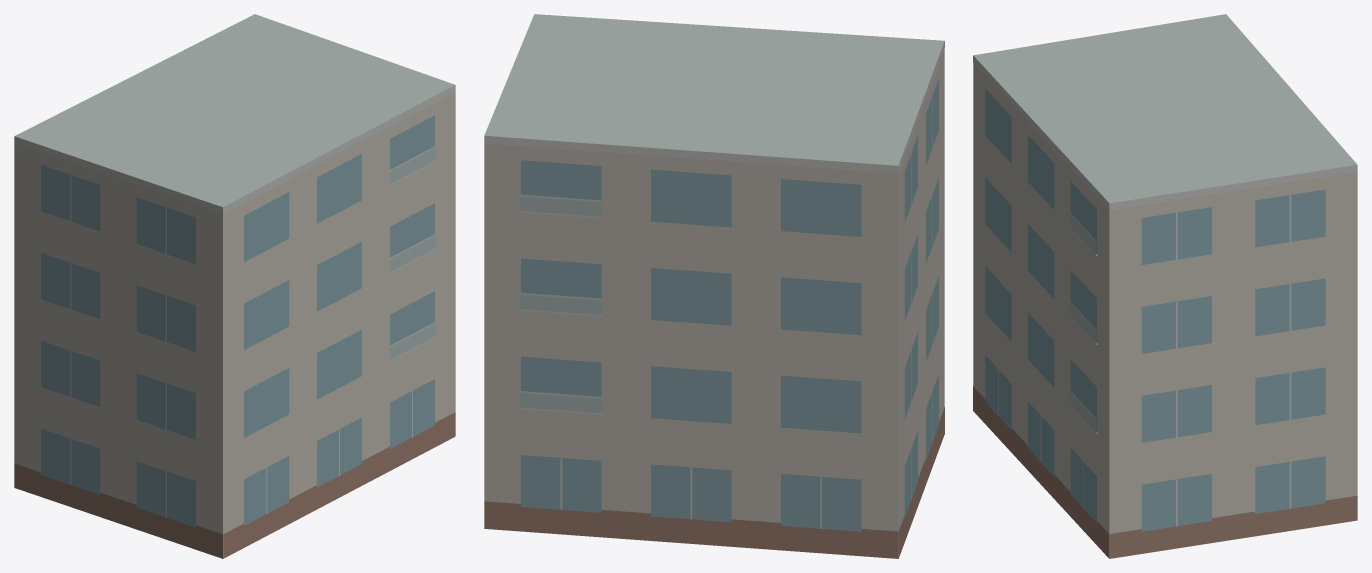
File: survey-upis-32954186.glb
3 views of the same model, side by side, from view 1: azimuth 30°, elevation 25°; view 2: azimuth 150°, elevation 25°; view 3: azimuth 270°, elevation 25° (orthographic). The views are drawn at different scales.
Visible parts, largest first — view 1: survey-upis-32954186.tmp; view 2: survey-upis-32954186.tmp; view 3: survey-upis-32954186.tmp.
Boxes of the visible parts, box(x1,y1,x2,y2) form: survey-upis-32954186.tmp: box(14, 14, 455, 558); survey-upis-32954186.tmp: box(484, 14, 944, 558); survey-upis-32954186.tmp: box(973, 14, 1357, 558).
Bounding box in the file's own units: 14.05 × 12.3 × 12.06.
